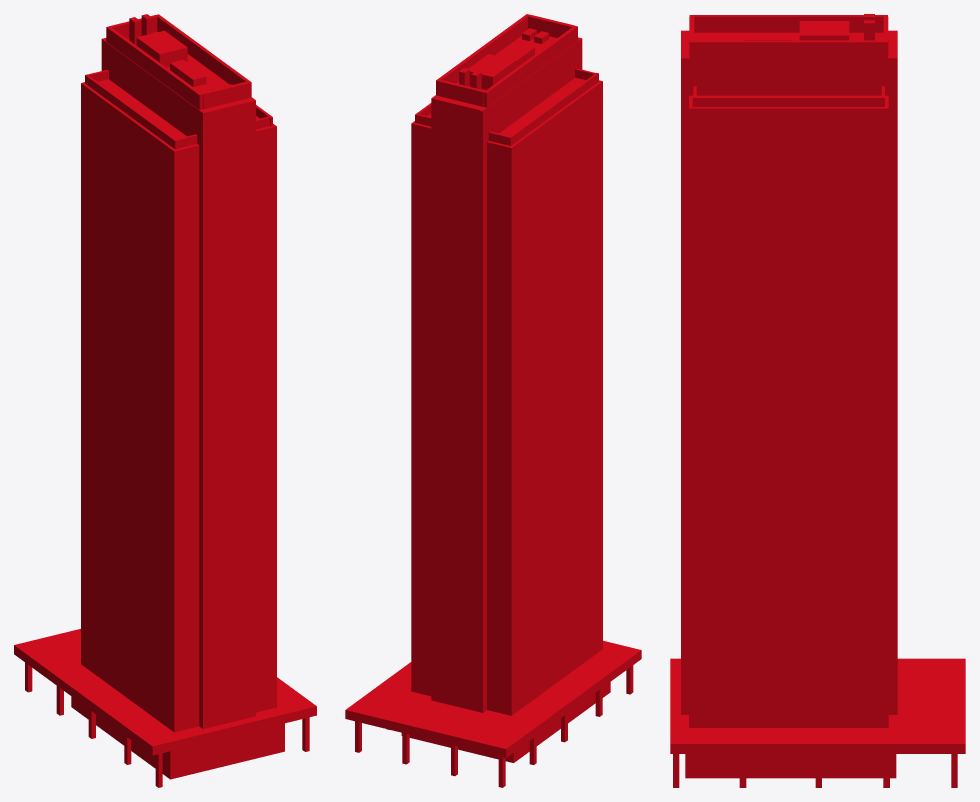
Rendered from tower03.fbx.
3 views of the same model, side by side, from view 1: azimuth 30°, elevation 25°; view 2: azimuth 150°, elevation 25°; view 3: azimuth 270°, elevation 25° (orthographic). The views are drawn at different scales.
Visible parts, largest first — view 1: HB01_invisible, HB01_invisible.003, HB01_invisible.002, HB01_invisible.001, HB01_invisible.008, HB01_invisible.012, HB01_invisible.013, HB01_invisible.004, HB01_invisible.011, HB01_invisible.014; view 2: HB01_invisible, HB01_invisible.003, HB01_invisible.002, HB01_invisible.001, HB01_invisible.008, HB01_invisible.012, HB01_invisible.004, HB01_invisible.013, HB01_invisible.010, HB01_invisible.011; view 3: HB01_invisible, HB01_invisible.003, HB01_invisible.002, HB01_invisible.001, HB01_invisible.012, HB01_invisible.008, HB01_invisible.005, HB01_invisible.013.
Part boxes in pixels (x1,y1,x2,y2): HB01_invisible: (81, 79, 276, 732); HB01_invisible.003: (101, 31, 255, 728); HB01_invisible.002: (14, 629, 316, 755); HB01_invisible.001: (71, 660, 284, 779); HB01_invisible.008: (106, 26, 202, 109); HB01_invisible.012: (155, 14, 251, 97); HB01_invisible.013: (136, 30, 187, 67); HB01_invisible.004: (85, 74, 177, 149); HB01_invisible.011: (201, 81, 248, 109); HB01_invisible.014: (170, 59, 206, 86); HB01_invisible: (411, 77, 602, 715); HB01_invisible.003: (431, 33, 582, 712); HB01_invisible.002: (345, 640, 641, 757); HB01_invisible.001: (401, 647, 610, 762); HB01_invisible.008: (483, 25, 577, 107); HB01_invisible.012: (436, 14, 529, 95); HB01_invisible.004: (508, 73, 598, 145); HB01_invisible.013: (468, 54, 515, 89); HB01_invisible.010: (439, 80, 485, 106); HB01_invisible.011: (528, 14, 574, 37); HB01_invisible: (689, 95, 888, 727); HB01_invisible.003: (681, 30, 897, 714); HB01_invisible.002: (670, 658, 965, 753); HB01_invisible.001: (685, 722, 896, 778); HB01_invisible.012: (689, 40, 887, 58); HB01_invisible.008: (689, 15, 887, 32); HB01_invisible.005: (692, 96, 884, 106); HB01_invisible.013: (799, 21, 849, 40).
Size of what is drawn, in the model's own units: 9.29 by 36.91 by 13.54.
